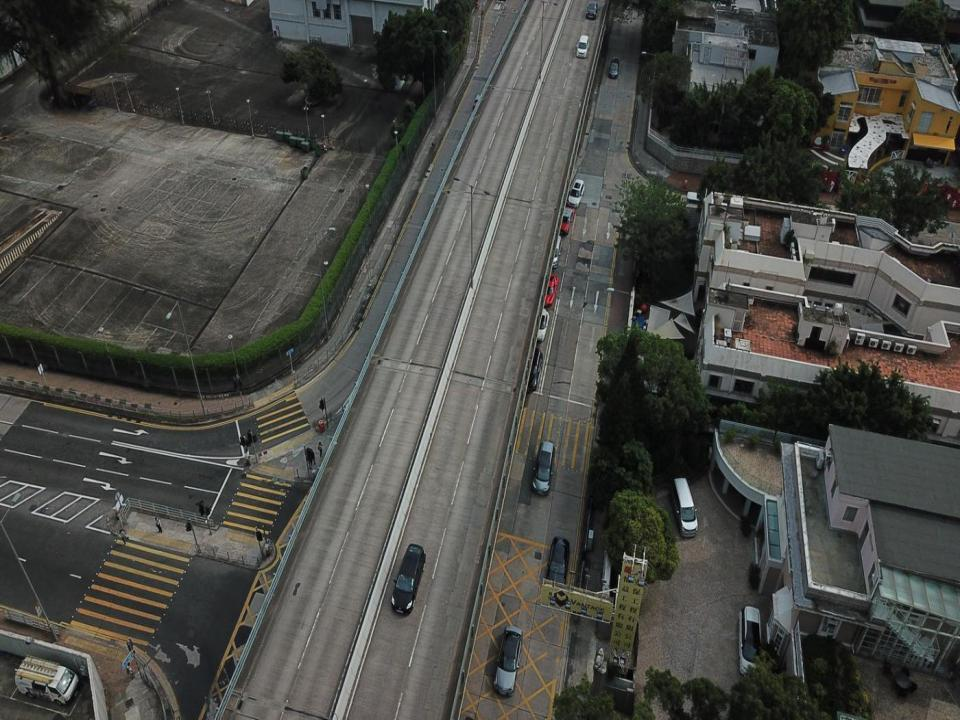car: (492, 626, 524, 696), (738, 605, 762, 678), (547, 537, 570, 595), (524, 349, 542, 391), (544, 231, 563, 266), (531, 308, 549, 342), (542, 273, 560, 304), (568, 178, 584, 206), (560, 205, 573, 236), (474, 93, 482, 110)
van: (390, 544, 427, 618), (672, 474, 700, 539), (530, 441, 556, 496), (577, 34, 589, 56), (608, 56, 620, 78), (586, 0, 598, 21)
